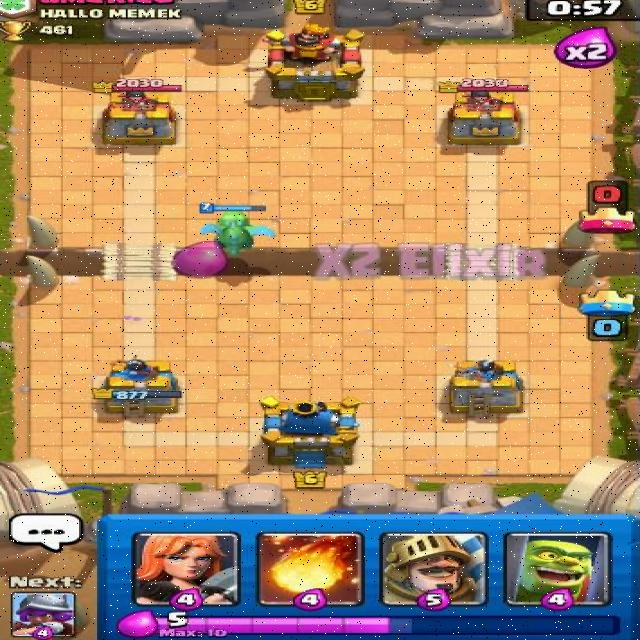Player-HungryDragon: (194, 200, 281, 257)
